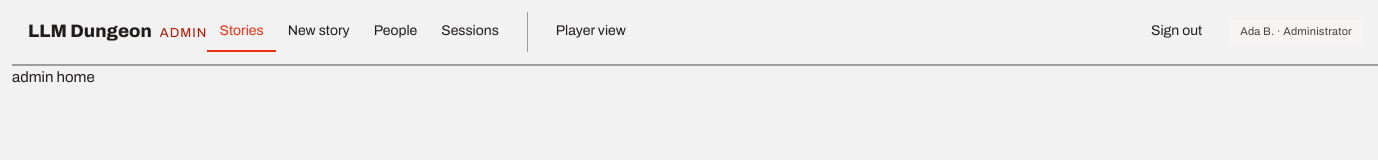
Test case: Dual-capability accounts can move between experiences (US3 scenario 3) › crosses from the admin bar to the player experience and back
Click the link "Player view": (591, 30) left=556, top=23, right=626, bottom=38
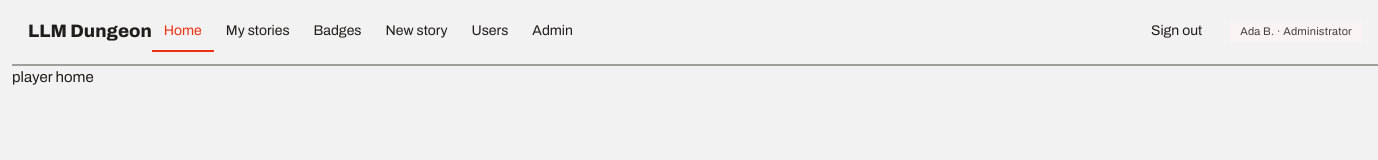
Expected: the text "player home" is shown, left=12, top=69, right=94, bottom=85
Note: The player bar offers the way back into admin.
Click the link "Admin": (553, 30) left=532, top=23, right=573, bottom=38
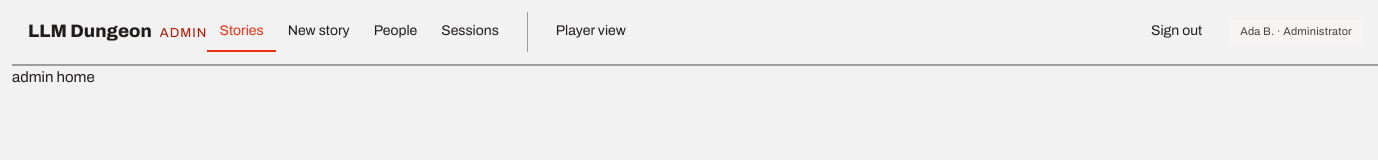
Expected: the text "admin home" is shown, left=12, top=69, right=95, bottom=85
Expected: the link "Player view" is shown, left=556, top=23, right=626, bottom=38
